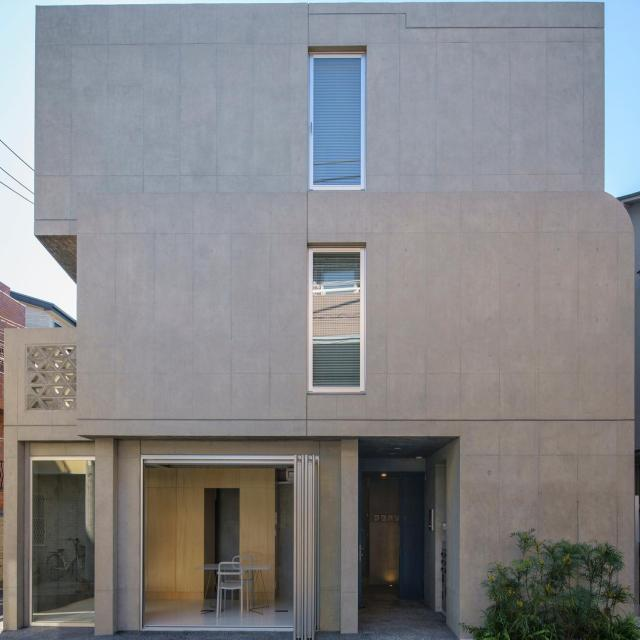plant: (456, 526, 630, 635)
wall: (0, 0, 631, 634)
windows: (26, 456, 91, 622), (308, 245, 366, 394), (309, 52, 359, 186)
